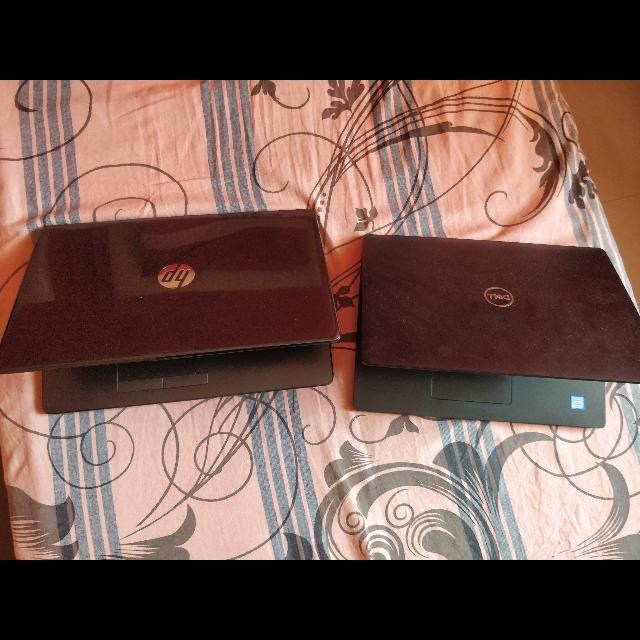Laptop: (0, 203, 348, 419), (350, 230, 640, 438)
